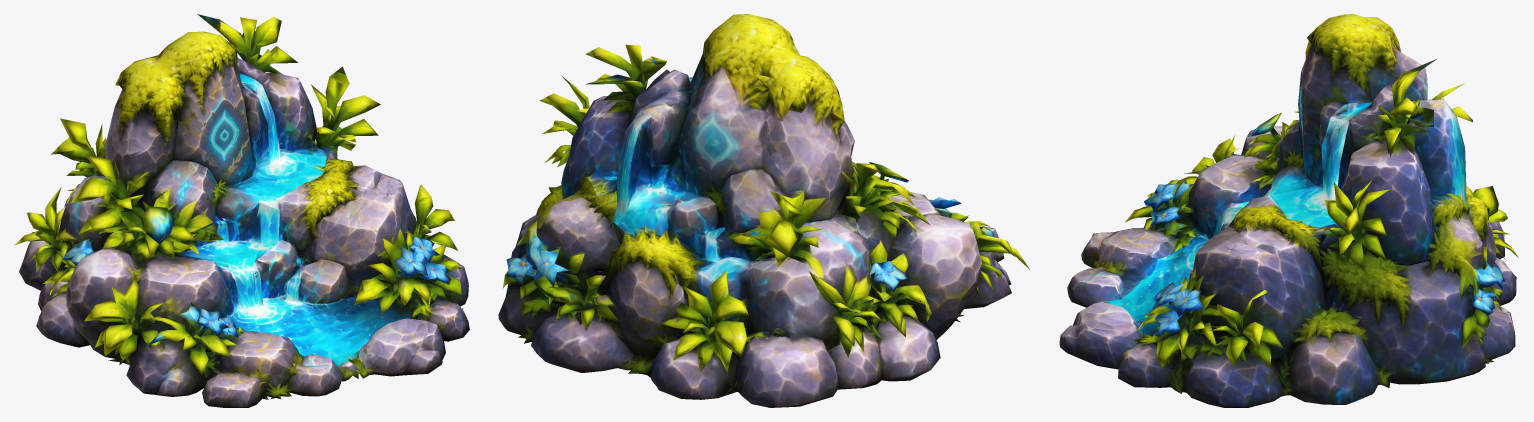
Rendered from ecos_nascente.glb.
3 views of the same model, side by side, from view 1: azimuth 30°, elevation 25°; view 2: azimuth 150°, elevation 25°; view 3: azimuth 270°, elevation 25° (orthographic). The views are drawn at different scales.
Visible parts, largest first — view 1: tripo_part_1, tripo_part_2, tripo_part_11, tripo_part_7, tripo_part_9, tripo_part_0, tripo_part_5, tripo_part_13, tripo_part_8, tripo_part_14, tripo_part_12, tripo_part_18; view 2: tripo_part_1, tripo_part_11, tripo_part_6, tripo_part_8, tripo_part_4, tripo_part_10, tripo_part_12, tripo_part_7, tripo_part_14, tripo_part_9, tripo_part_5; view 3: tripo_part_1, tripo_part_9, tripo_part_0, tripo_part_11, tripo_part_6, tripo_part_2, tripo_part_13, tripo_part_5, tripo_part_14, tripo_part_7, tripo_part_4, tripo_part_10 (+1 smaller).
Boxes of the visible parts, left/top/right/bottom form: tripo_part_1: left=19, top=57, right=469, bottom=407; tripo_part_2: left=178, top=203, right=410, bottom=366; tripo_part_11: left=115, top=31, right=237, bottom=141; tripo_part_7: left=70, top=153, right=223, bottom=259; tripo_part_9: left=261, top=66, right=380, bottom=244; tripo_part_0: left=354, top=184, right=462, bottom=319; tripo_part_5: left=84, top=278, right=241, bottom=377; tripo_part_13: left=252, top=85, right=326, bottom=198; tripo_part_8: left=14, top=187, right=93, bottom=297; tripo_part_14: left=197, top=14, right=298, bottom=74; tripo_part_12: left=51, top=118, right=106, bottom=205; tripo_part_18: left=294, top=225, right=318, bottom=262; tripo_part_1: left=498, top=58, right=1011, bottom=407; tripo_part_11: left=691, top=14, right=844, bottom=125; tripo_part_6: left=503, top=176, right=716, bottom=331; tripo_part_8: left=809, top=242, right=931, bottom=357; tripo_part_4: left=537, top=197, right=619, bottom=291; tripo_part_10: left=663, top=270, right=763, bottom=372; tripo_part_12: left=726, top=191, right=824, bottom=278; tripo_part_7: left=841, top=161, right=929, bottom=231; tripo_part_14: left=585, top=44, right=666, bottom=114; tripo_part_9: left=536, top=75, right=589, bottom=215; tripo_part_5: left=929, top=197, right=1029, bottom=296; tripo_part_1: left=1059, top=42, right=1516, bottom=407; tripo_part_9: left=1228, top=180, right=1412, bottom=328; tripo_part_0: left=1133, top=268, right=1283, bottom=370; tripo_part_11: left=1305, top=14, right=1401, bottom=100; tripo_part_6: left=1427, top=193, right=1505, bottom=347; tripo_part_2: left=1106, top=182, right=1271, bottom=335; tripo_part_13: left=1268, top=115, right=1349, bottom=227; tripo_part_5: left=1125, top=135, right=1240, bottom=237; tripo_part_14: left=1377, top=59, right=1436, bottom=156; tripo_part_7: left=1244, top=111, right=1298, bottom=189; tripo_part_4: left=1448, top=210, right=1487, bottom=288; tripo_part_10: left=1466, top=186, right=1518, bottom=260.
Bounding box in the file's own units: 0.9849 × 0.6512 × 0.9543.
22 materials, 22 textured.
